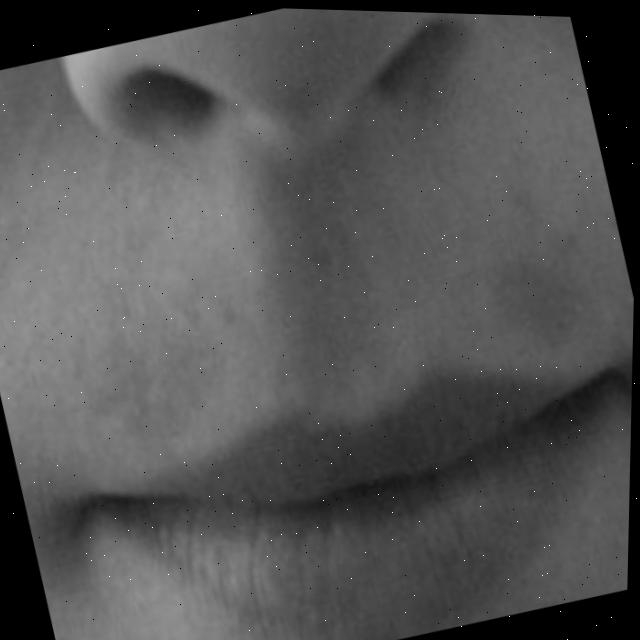Melasma: (93, 328, 261, 453), (487, 240, 635, 358)
